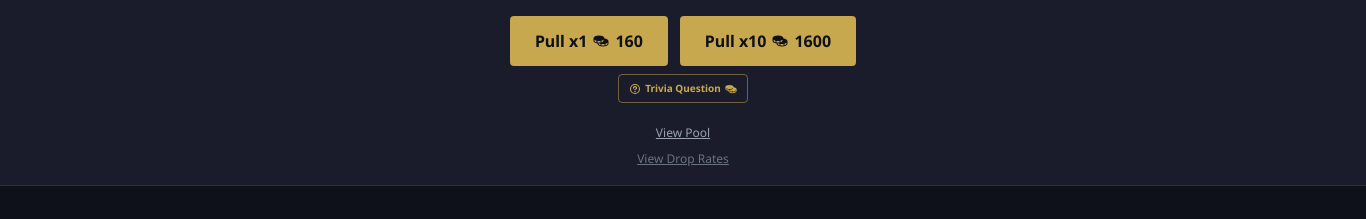
Test: GachaScreen › toggles drop rates
Click the button "View Drop Rates": (683, 159) [637,151,729,167]
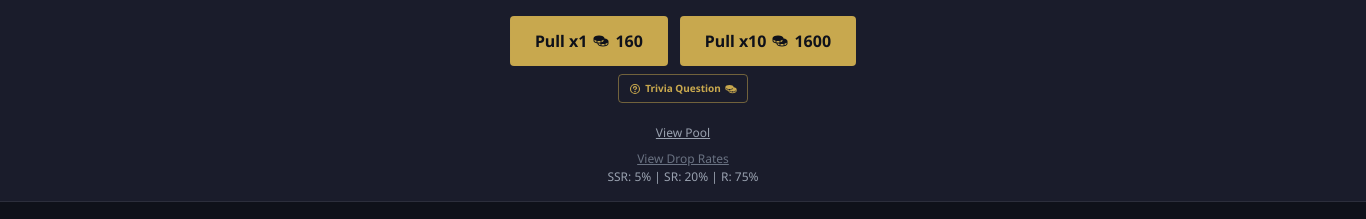
Check: the text "SSR: 5% | SR: 20% | R: 75%" is shown, box [607,168,758,185]
